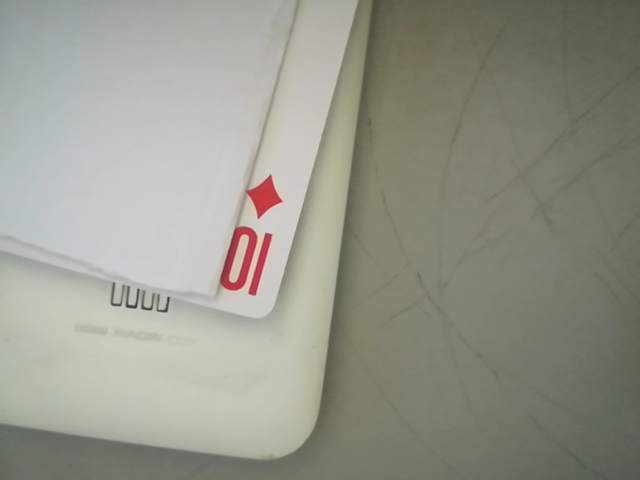fk 10: (209, 168, 302, 304)
